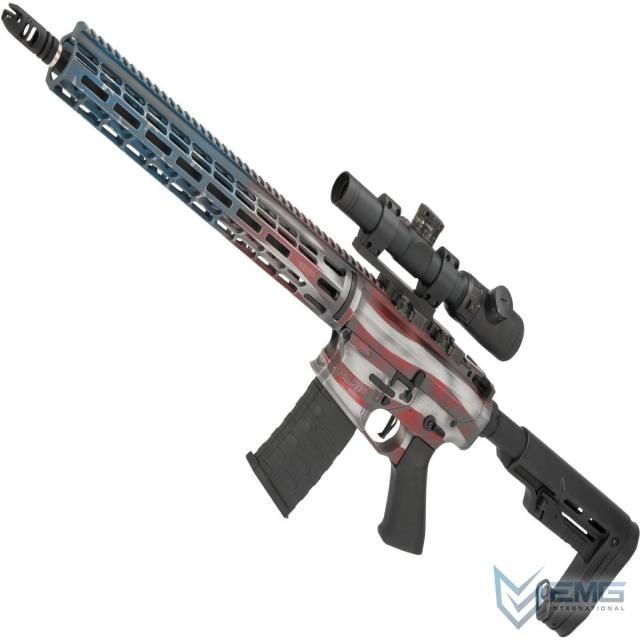Rifle: (0, 3, 640, 640)
